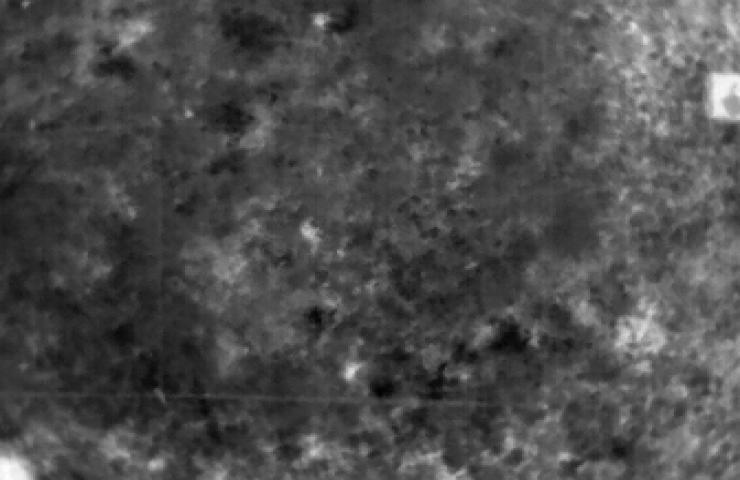landmines: (297, 215, 324, 243)
